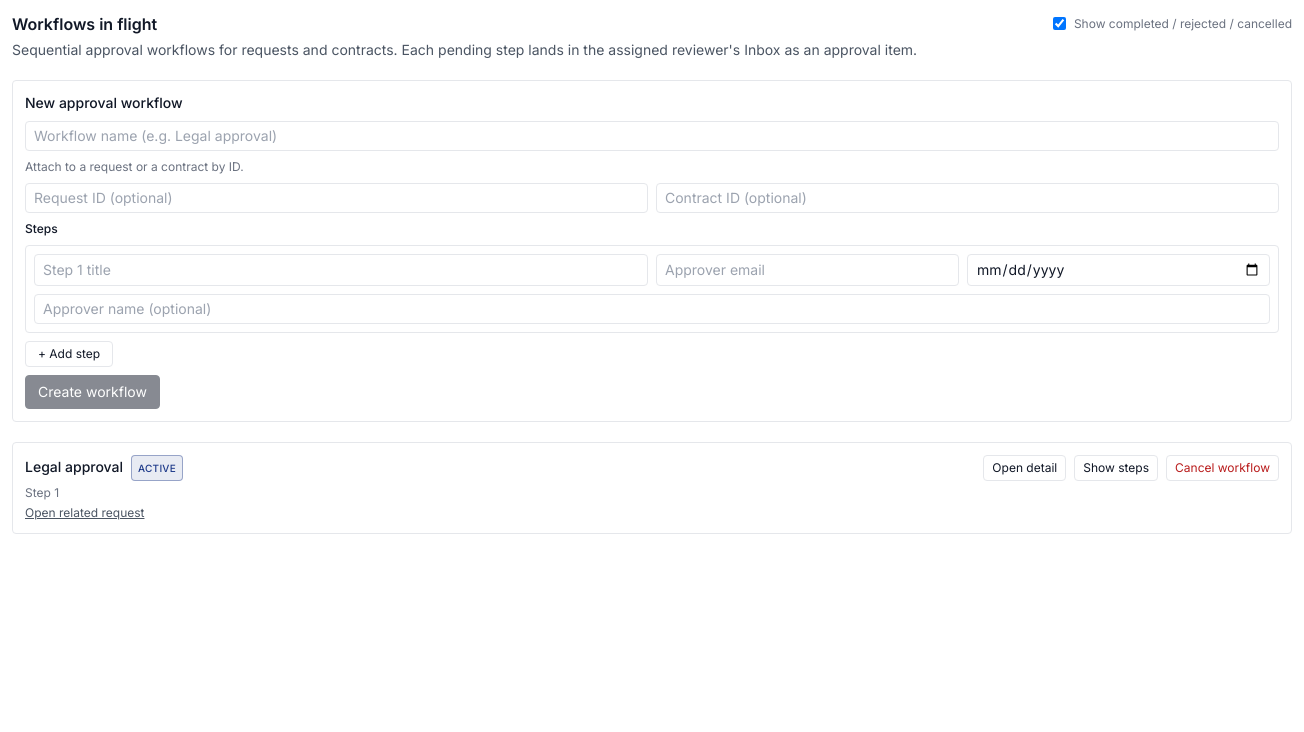
Test: ApprovalWorkflowsPage › rejects the current step and marks the workflow rejected
The width and height of the screenshot is (1304, 732).
Expected: the text "Legal approval" is shown, [25, 457, 123, 477]
What coordinates should you click on to do the following:
click the button with test id "approvals-toggle-detail"
I would click on:
 (1116, 468)
Its box is [1074, 455, 1158, 481].
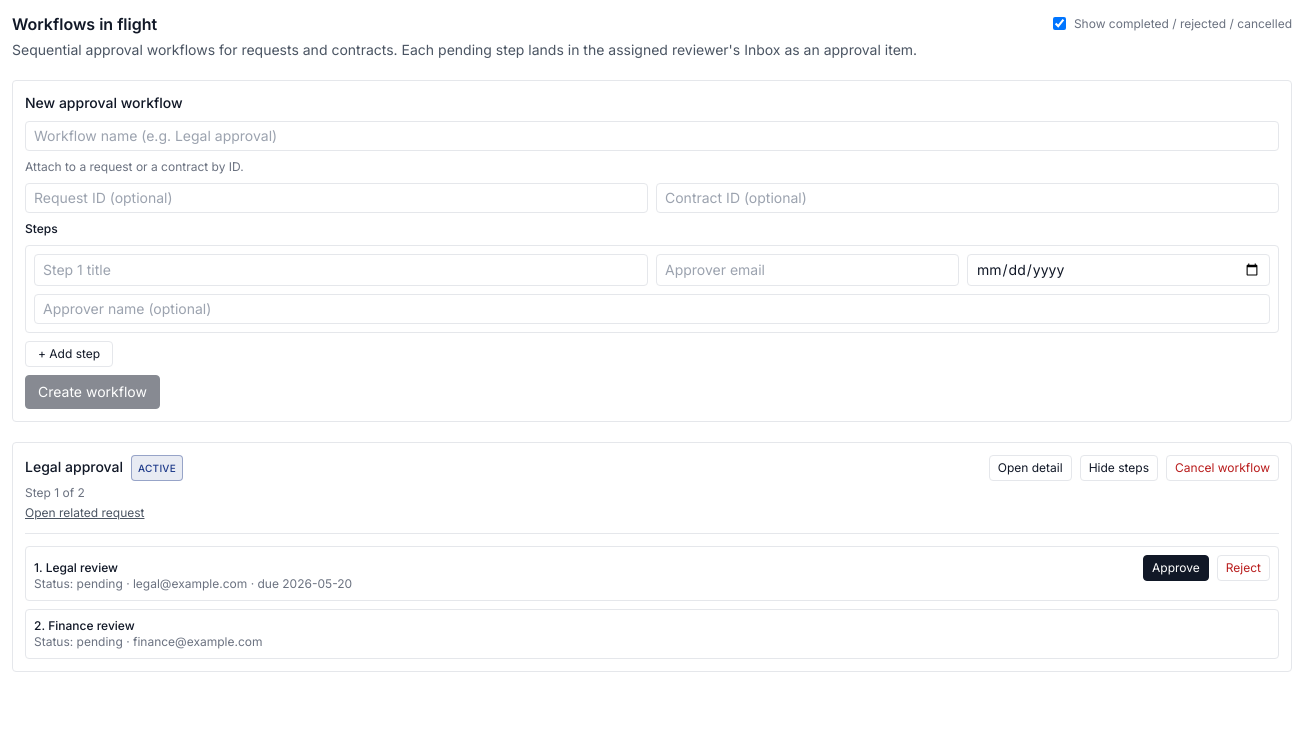
What coordinates should you click on to do the following:
click the button with test id "approvals-reject"
I would click on:
 (1243, 568)
Its box is [1217, 555, 1270, 581].
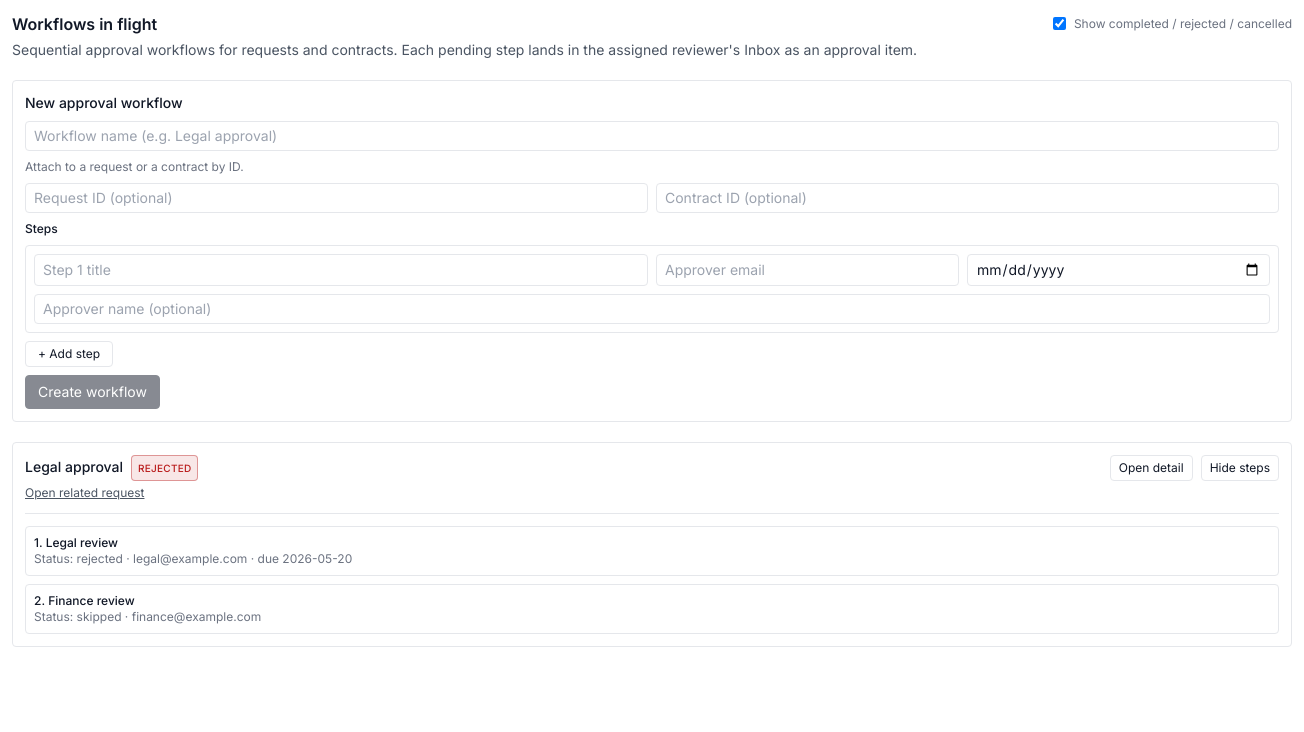
Expected: the text with test id "approval-status" reads "rejected", [138, 462, 192, 474]
